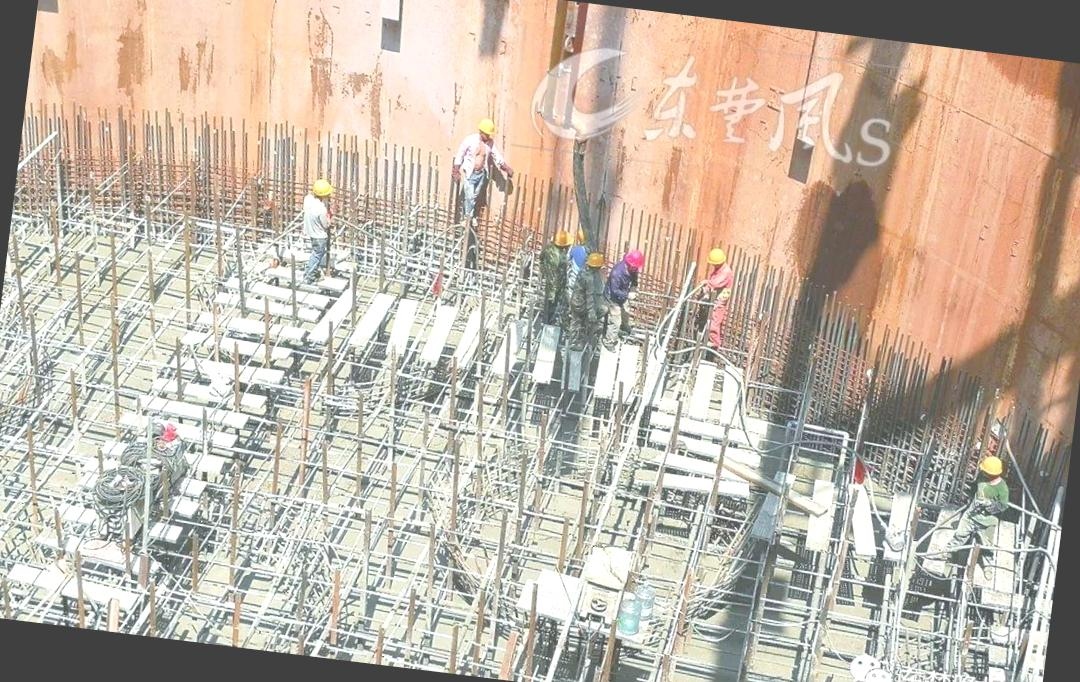helmet: (974, 449, 1009, 488), (700, 242, 734, 269), (476, 110, 498, 137), (623, 244, 647, 268), (313, 178, 341, 195), (550, 228, 570, 250), (587, 258, 608, 270)
no_vest: (303, 200, 323, 229)
person: (444, 110, 521, 235), (284, 172, 356, 288), (689, 244, 744, 364), (560, 242, 614, 358), (596, 244, 645, 344), (537, 226, 572, 330), (964, 449, 1012, 522)
